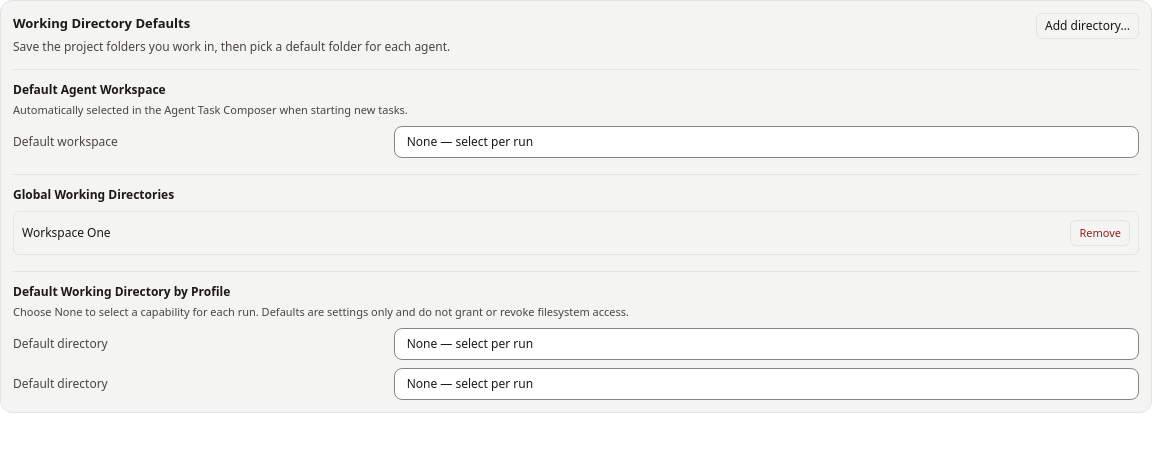
it: AgentWorkingDirectoriesSettings › does not persist a duplicate and reports native cancellation
The image size is (1152, 476).
Click the button "Add directory…": x=1088, y=26 [1036, 13, 1139, 39]
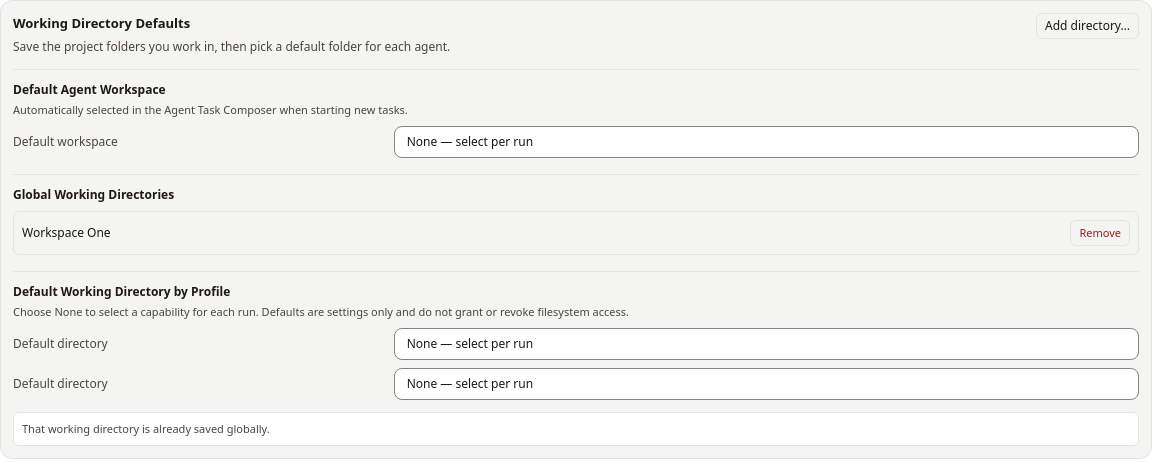
Expected: the message shows "already saved", [22, 420, 270, 436]
Click the button "Add directory…": x=1088, y=26 [1036, 13, 1139, 39]
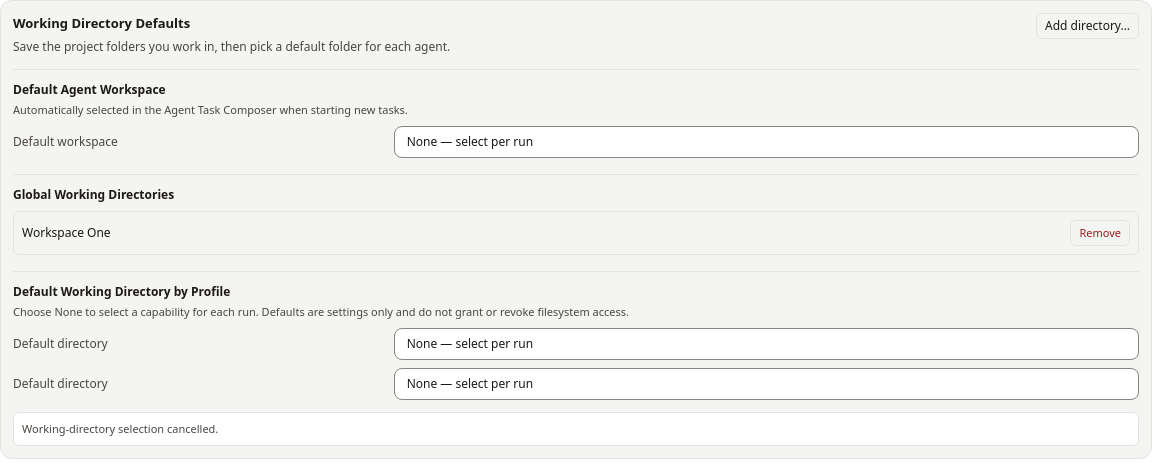
Expected: the message shows "cancelled", [22, 420, 218, 436]
